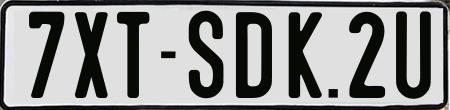2: (349, 9, 387, 96)
7: (29, 11, 68, 101)
D: (234, 10, 276, 98)
K: (289, 12, 322, 98)
S: (189, 8, 227, 95)
T: (117, 9, 153, 97)
U: (394, 9, 432, 98)
X: (74, 11, 113, 100)
